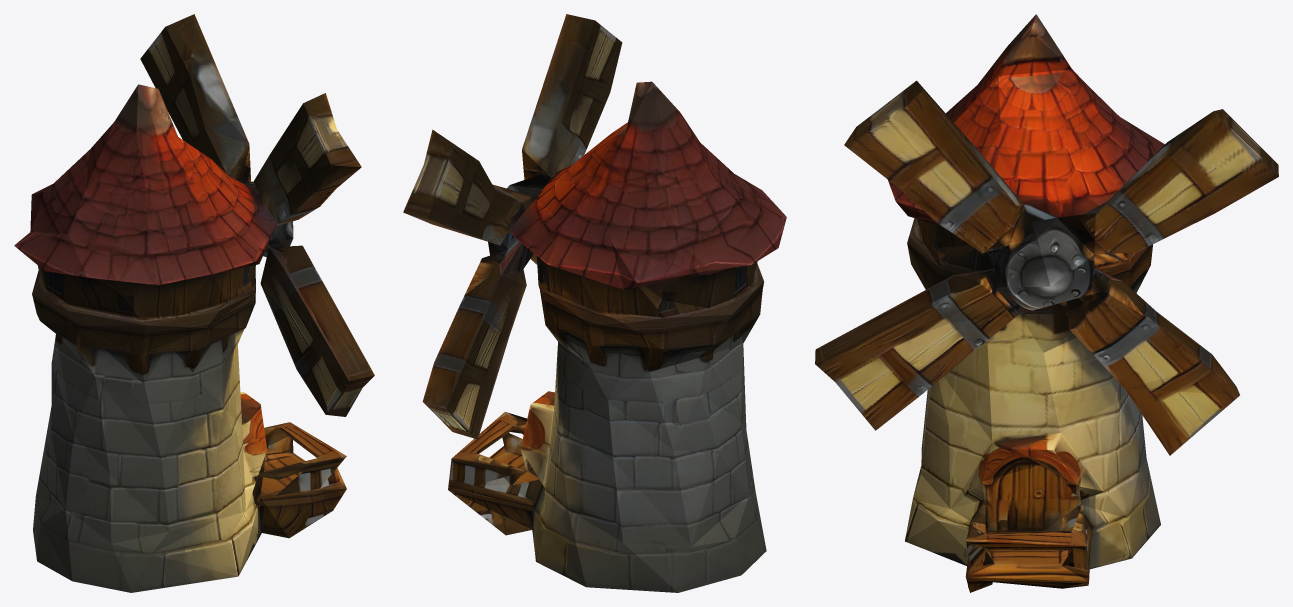
The model's file is WindMill.fbx.
3 renders of one model, left to right at view 1: azimuth 30°, elevation 25°; view 2: azimuth 150°, elevation 25°; view 3: azimuth 270°, elevation 25°, orthographic. The views are drawn at different scales.
Parts seen in each view (by area): view 1: House, Blade; view 2: House, Blade; view 3: House, Blade.
Boxes of the visible parts, x1=… form: House: x1=14, y1=84, x2=346, y2=592; Blade: x1=140, y1=14, x2=374, y2=416; House: x1=448, y1=81, x2=786, y2=592; Blade: x1=403, y1=14, x2=622, y2=439; House: x1=888, y1=14, x2=1164, y2=592; Blade: x1=815, y1=80, x2=1278, y2=455.
Size of the model in its own units: 62.19 by 94.96 by 78.59.
Materials: 1 (1 with a texture image).
